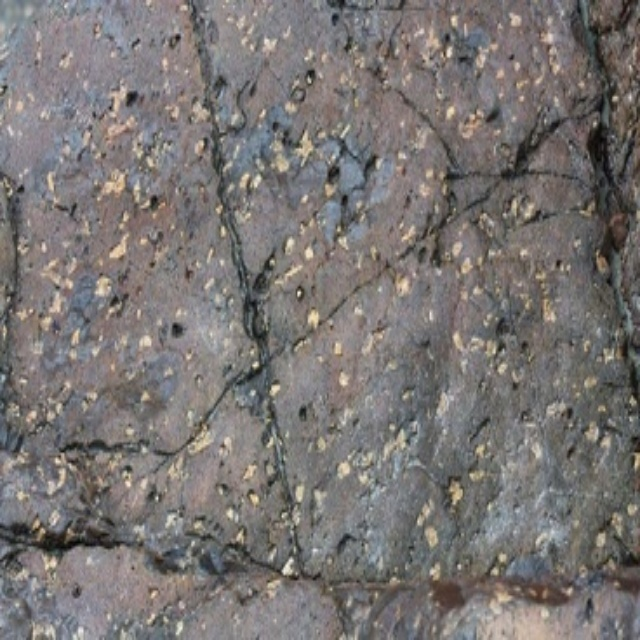obstacle: (0, 3, 638, 635)
